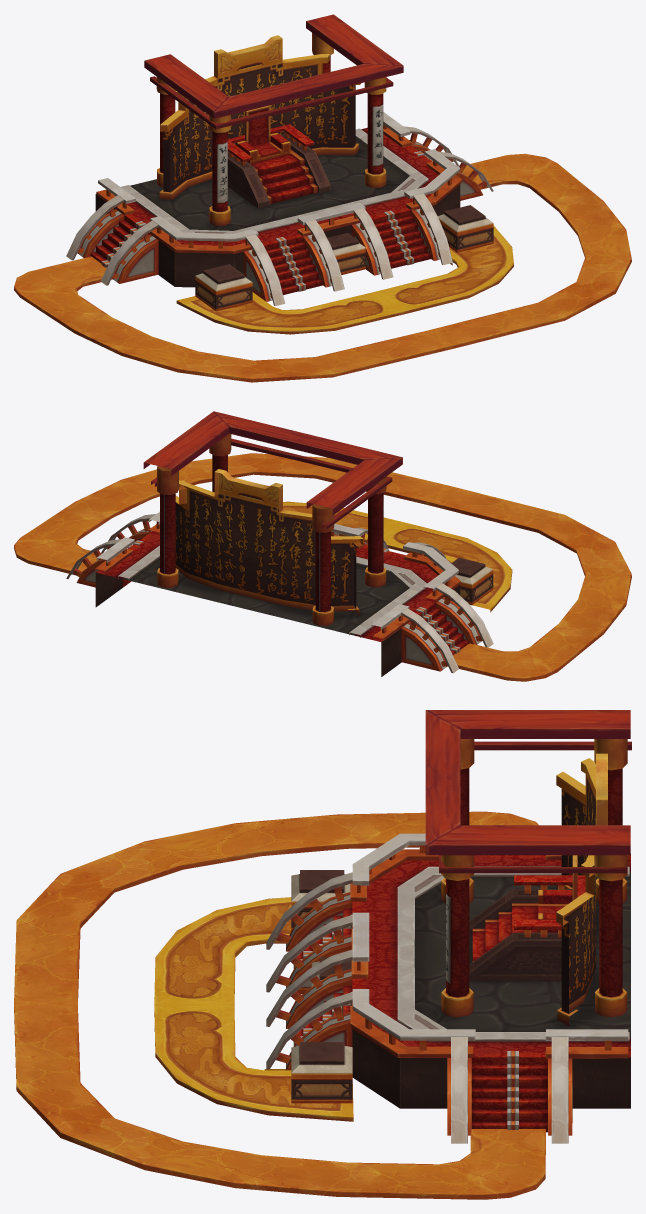
Rendered from Stage_01_02_WZ.FBX.
3 views of the same model, one above another, from view 1: azimuth 30°, elevation 25°; view 2: azimuth 150°, elevation 25°; view 3: azimuth 270°, elevation 25° (orthographic). The views are drawn at different scales.
Parts seen in each view (by area): view 1: Stage_01_02_WZ; view 2: Stage_01_02_WZ; view 3: Stage_01_02_WZ.
Boxes of the visible parts, x1,y1,x2,y2 form: Stage_01_02_WZ: (14, 14, 631, 382); Stage_01_02_WZ: (14, 411, 631, 681); Stage_01_02_WZ: (14, 710, 631, 1199).
Bounding box in the file's own units: 2466 × 695 × 1679.
